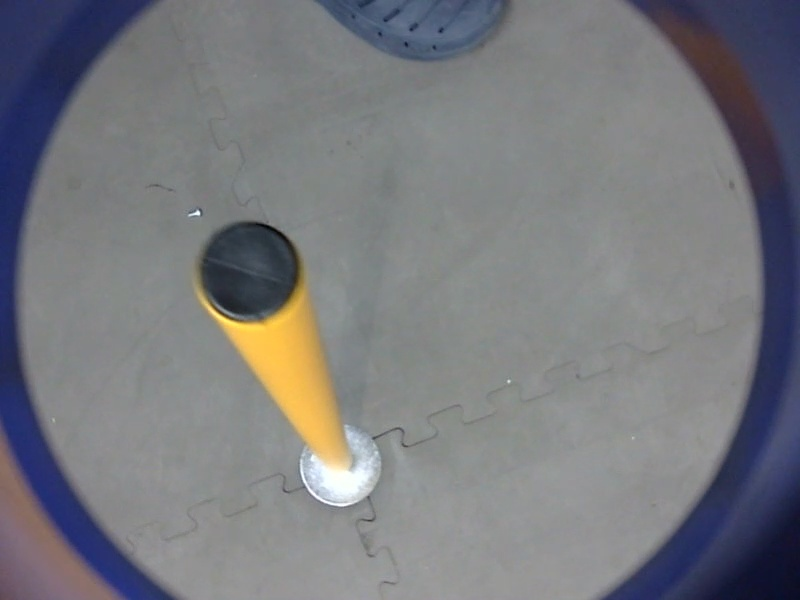tip: (181, 210, 311, 334)
